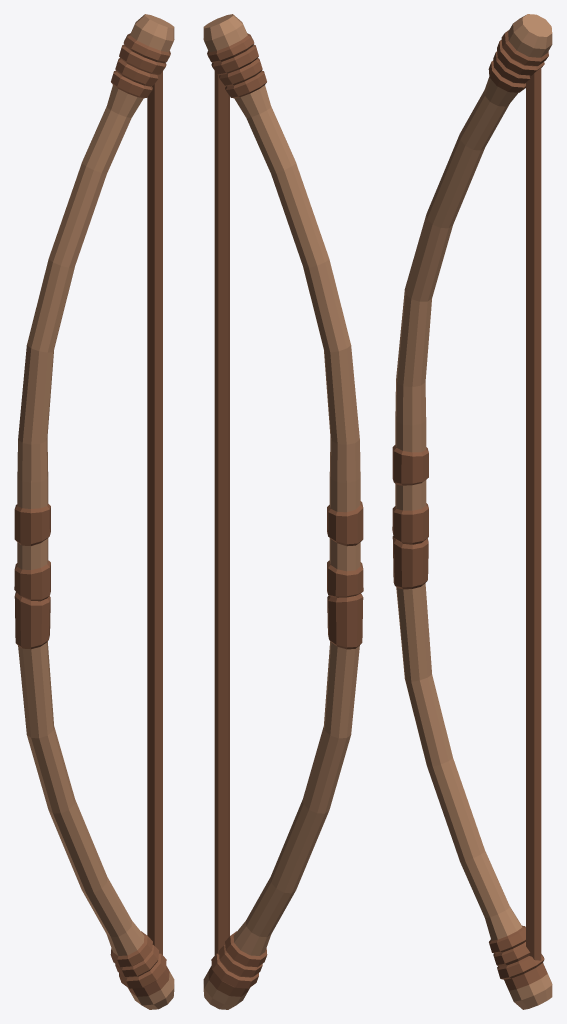
File: Bow.fbx
3 views of the same model, side by side, from view 1: azimuth 30°, elevation 25°; view 2: azimuth 150°, elevation 25°; view 3: azimuth 330°, elevation 25° (orthographic).
Parts seen in each view (by area): view 1: Bow; view 2: Bow; view 3: Bow.
Part boxes in pixels (x1,y1,x2,y2): Bow: [14, 14, 174, 1009]; Bow: [203, 14, 363, 1009]; Bow: [392, 14, 552, 1009].
Bounding box in the file's own units: 23.15 × 142 × 6.58.
